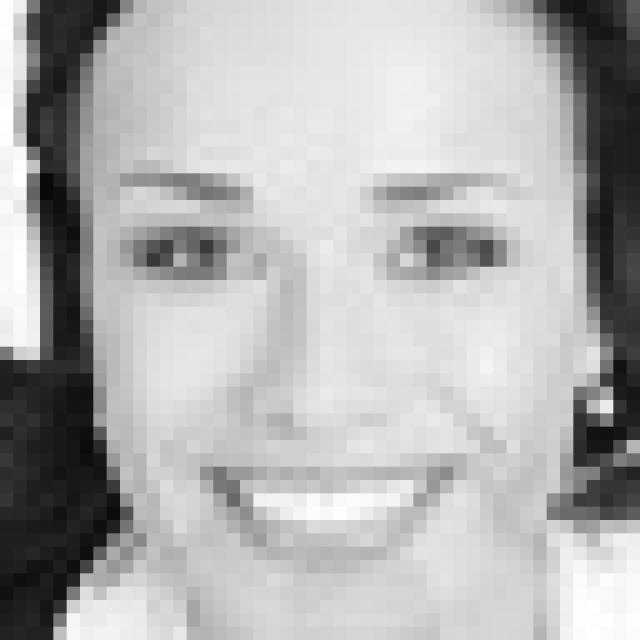happy: (105, 166, 539, 575)
